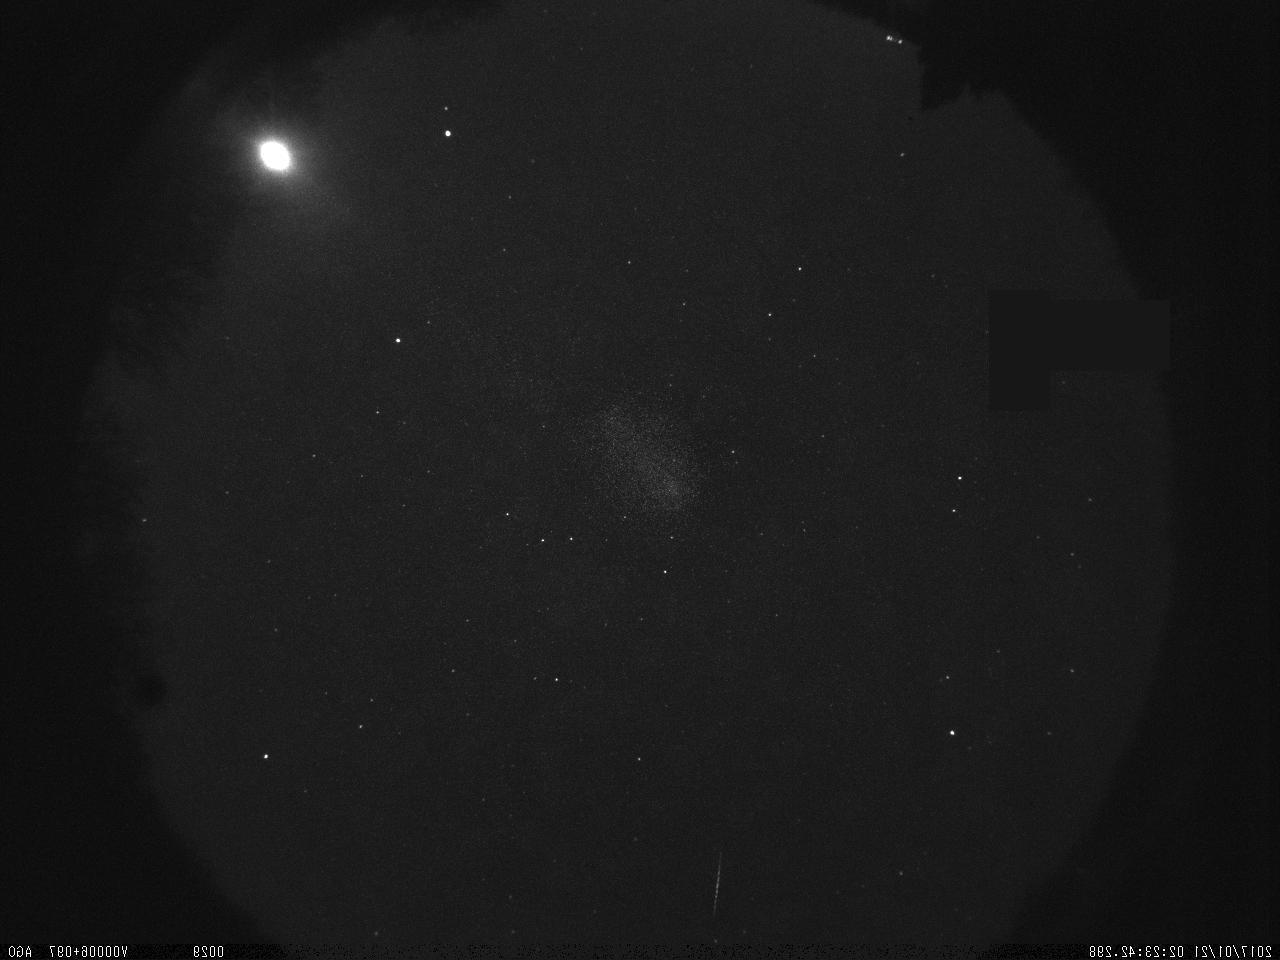meteor: (689, 844, 745, 920)
